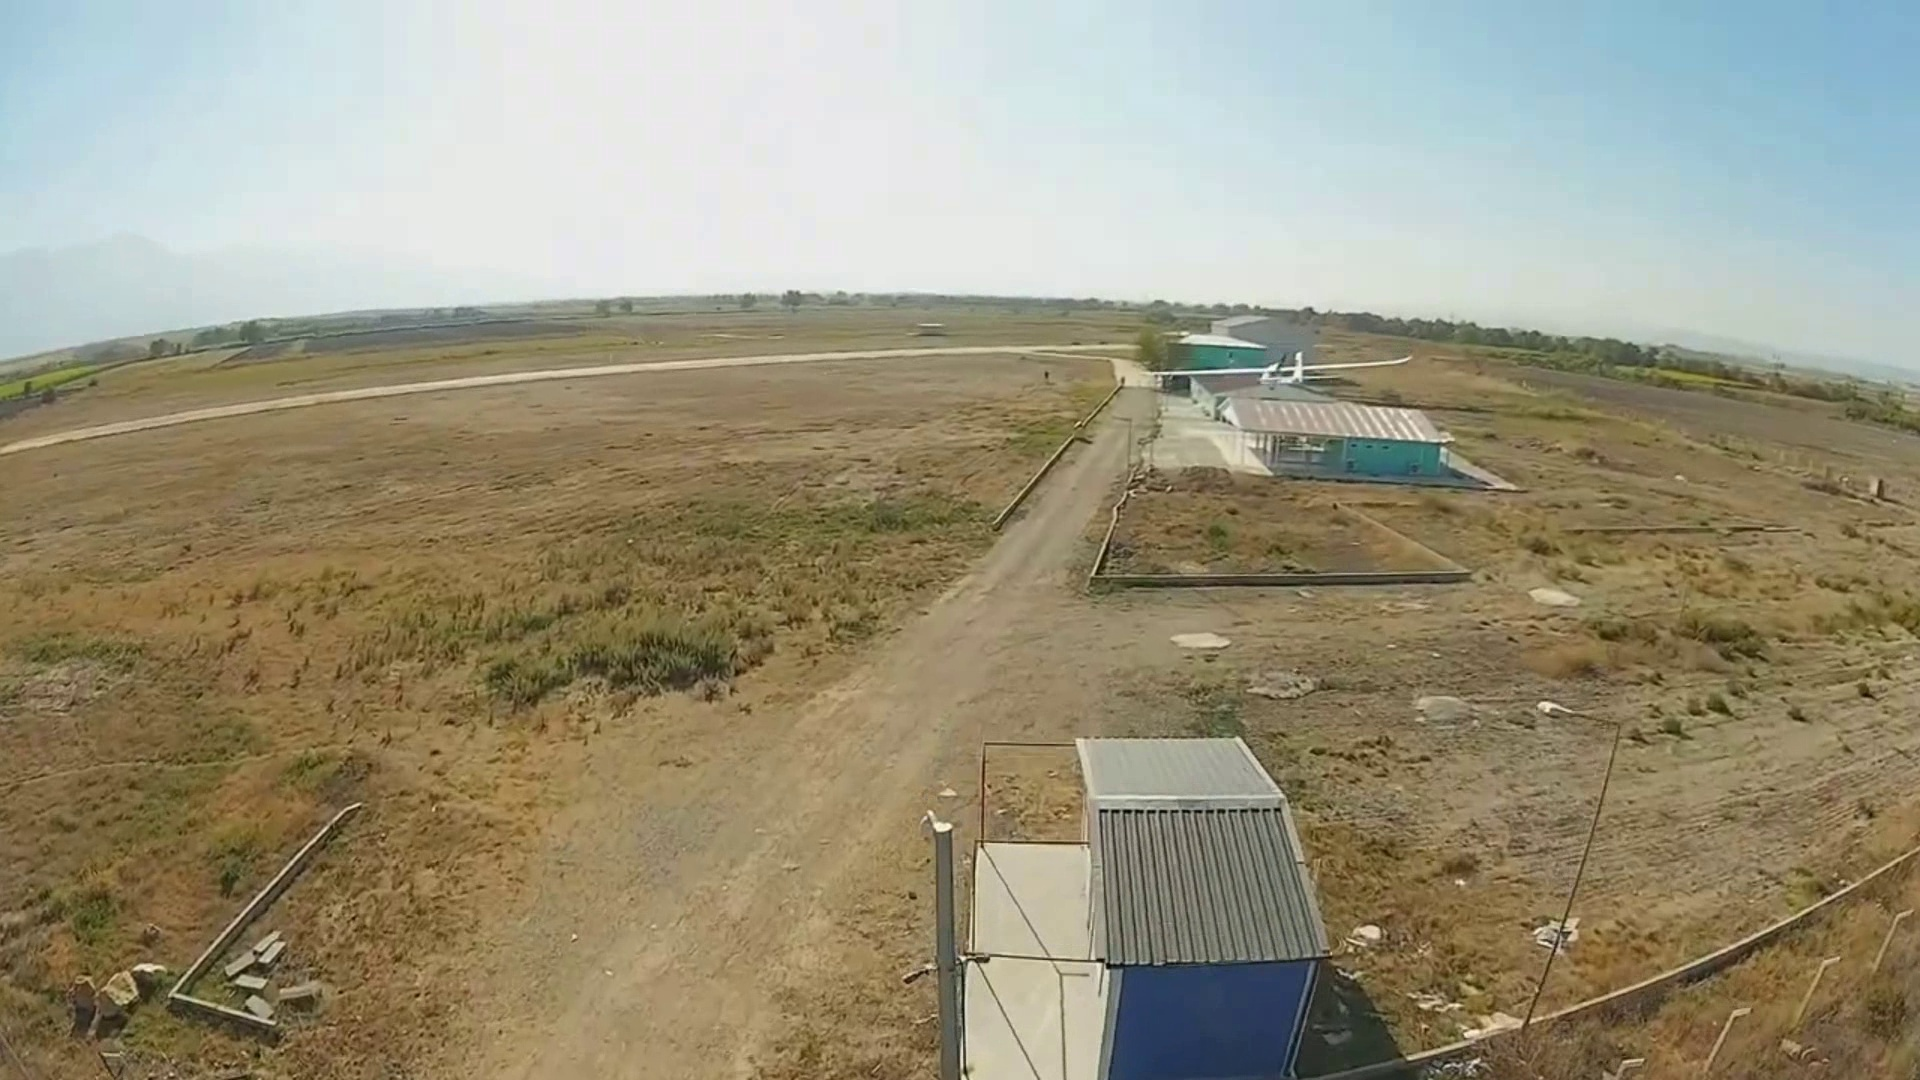airplane: (1149, 323, 1510, 491)
